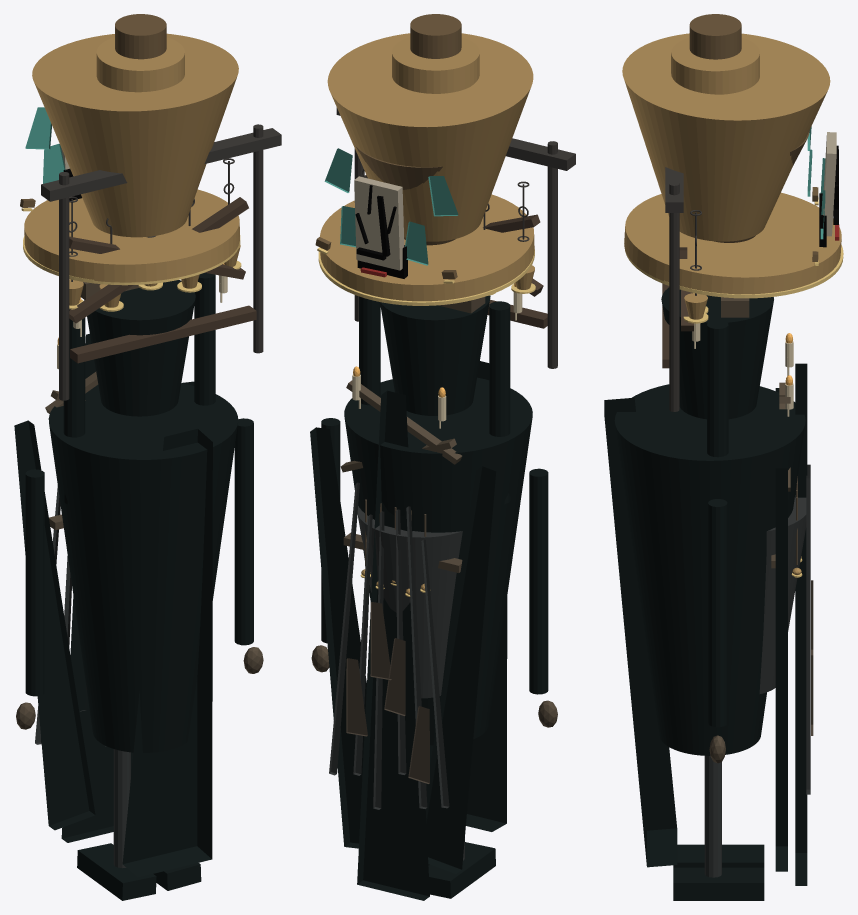
File: bell_saint_v6_centered_artpass.glb
3 views of the same model, side by side, from view 1: azimuth 30°, elevation 25°; view 2: azimuth 150°, elevation 25°; view 3: azimuth 270°, elevation 25° (orthographic).
Visible parts, largest first — view 1: BS6_RobeMainCentered, BS6_BellHeadCentered_Main, BS6_BackTrainCentered, BS6_LeftOuterRobeFall, BS6_BellHeadHeavyMouthRim, BS6_UpperTorsoCentered, BS6_LeftForeSleeve, BS6_RightForeSleeve, BS6_FrontCentralBladePanel, BS6_BellTopCrown, BS6_BackTopCrossbarCentered, BS6_BackLowCrossbarCentered (+13 smaller); view 2: BS6_BellHeadCentered_Main, BS6_RobeMainCentered, BS6_FrontCentralBladePanel, BS6_LeftOuterRobeFall, BS6_BellHeadHeavyMouthRim, BS6_UpperTorsoCentered, BS6_RightOuterRobeFall, BS6_RobeInnerShadowCentered, BS6_BackTrainCentered, BS6_LeftForeSleeve, BS6_BellTopCrown, BS6_CenteredWarningPlate (+26 smaller); view 3: BS6_RobeMainCentered, BS6_BellHeadCentered_Main, BS6_BellHeadHeavyMouthRim, BS6_BackTrainCentered, BS6_UpperTorsoCentered, BS6_FrontCentralBladePanel, BS6_RightOuterRobeFall, BS6_RightForeSleeve, BS6_BellTopCrown, BS6_RobeInnerShadowCentered, BS6_RightUpperSleeve, BS6_RightFoot (+10 smaller).
Part boxes in pixels (x1,y1,x2,y2): BS6_RobeMainCentered: (48, 383, 238, 752); BS6_BellHeadCentered_Main: (32, 33, 238, 237); BS6_BackTrainCentered: (122, 428, 212, 877); BS6_LeftOuterRobeFall: (14, 420, 95, 830); BS6_BellHeadHeavyMouthRim: (24, 189, 239, 282); BS6_UpperTorsoCentered: (84, 280, 195, 416); BS6_LeftForeSleeve: (25, 469, 44, 696); BS6_RightForeSleeve: (234, 418, 253, 645); BS6_FrontCentralBladePanel: (61, 333, 113, 842); BS6_BellTopCrown: (96, 37, 184, 92); BS6_BackTopCrossbarCentered: (41, 128, 281, 201); BS6_BackLowCrossbarCentered: (70, 305, 256, 363); BS6_BellHeadCentered_Main: (327, 33, 533, 241); BS6_RobeMainCentered: (344, 377, 532, 745); BS6_FrontCentralBladePanel: (357, 390, 429, 900); BS6_LeftOuterRobeFall: (425, 466, 496, 873); BS6_BellHeadHeavyMouthRim: (320, 194, 534, 301); BS6_UpperTorsoCentered: (380, 295, 490, 415); BS6_RightOuterRobeFall: (310, 427, 366, 848); BS6_RobeInnerShadowCentered: (357, 506, 462, 698); BS6_BackTrainCentered: (426, 361, 507, 831); BS6_LeftForeSleeve: (529, 468, 548, 694); BS6_BellTopCrown: (392, 37, 479, 93); BS6_CenteredWarningPlate: (354, 176, 404, 270); BS6_RobeMainCentered: (614, 384, 805, 755); BS6_BellHeadCentered_Main: (622, 33, 830, 241); BS6_BellHeadHeavyMouthRim: (624, 192, 841, 294); BS6_BackTrainCentered: (604, 397, 677, 867); BS6_UpperTorsoCentered: (661, 287, 773, 419); BS6_FrontCentralBladePanel: (795, 363, 807, 885); BS6_RightOuterRobeFall: (775, 468, 787, 871); BS6_RightForeSleeve: (708, 499, 727, 727); BS6_BellTopCrown: (671, 37, 759, 94); BS6_RobeInnerShadowCentered: (759, 495, 806, 693); BS6_RightUpperSleeve: (707, 320, 728, 457); BS6_RightFoot: (673, 867, 764, 900).
Size of the model in its own units: 1.32 by 4.36 by 1.1.
